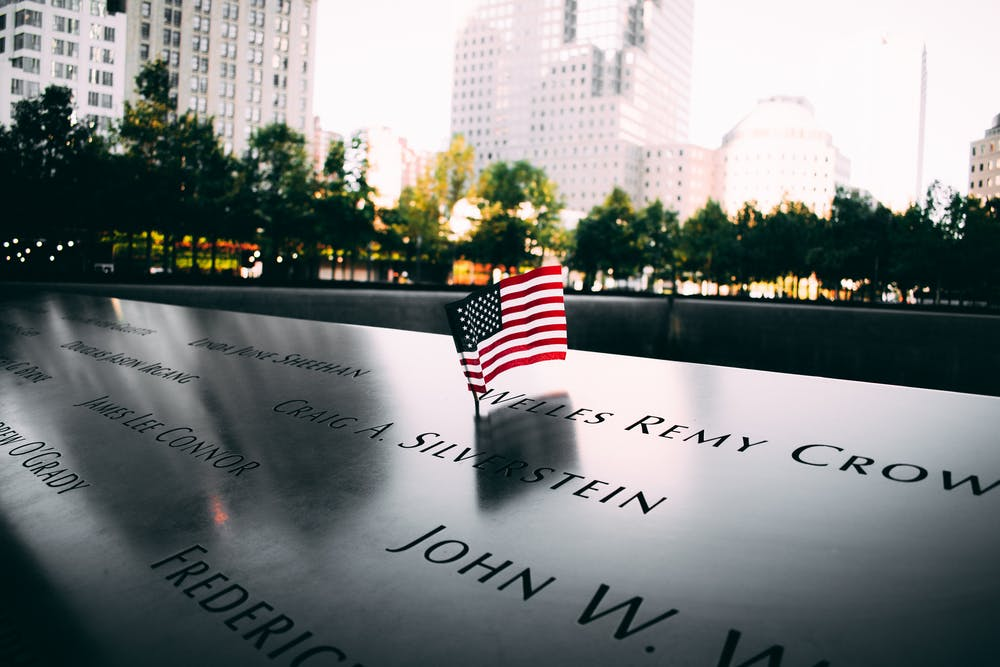Flag: (445, 264, 569, 394)
